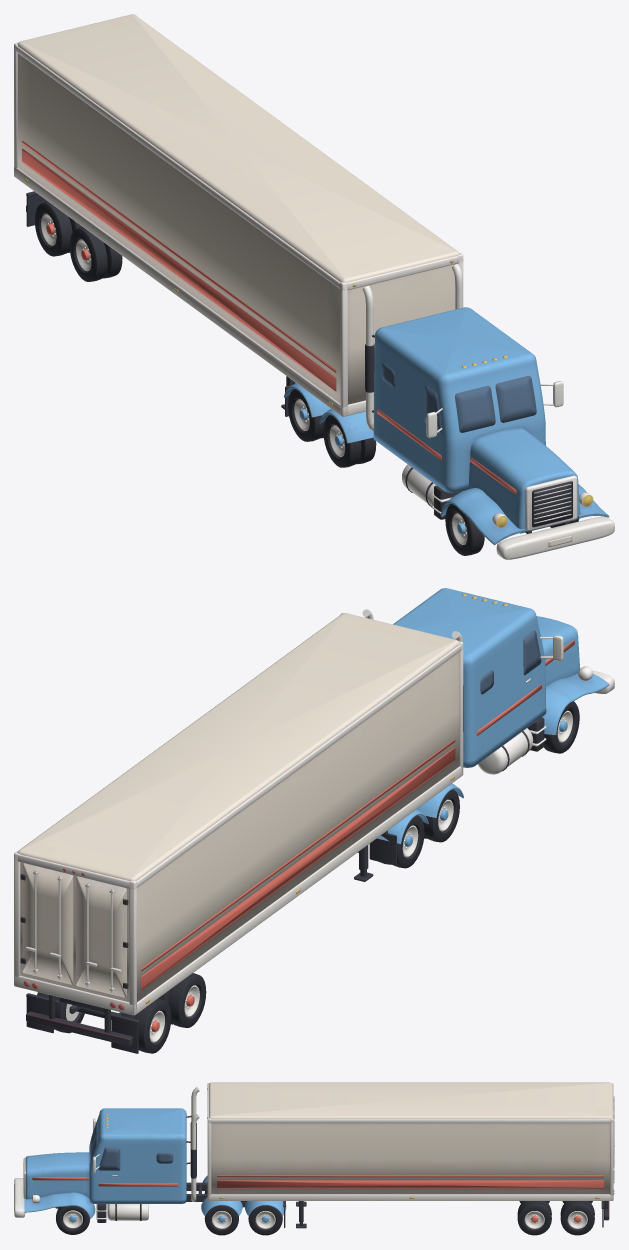
Rendered from semi-truck.glb.
3 renders of one model, top to bottom at view 1: azimuth 30°, elevation 25°; view 2: azimuth 150°, elevation 25°; view 3: azimuth 270°, elevation 25°, orthographic. The views are drawn at different scales.
Visible parts, largest first — view 1: semi-truck_trailer, semi-truck_body, semi-truck_windows, semi-truck_wheel_t1r, semi-truck_wheel_t2r, semi-truck_wheel_d1r, semi-truck_wheel_fr, semi-truck_wheel_d2r; view 2: semi-truck_trailer, semi-truck_body, semi-truck_wheel_t1r, semi-truck_wheel_t2r, semi-truck_wheel_d1r, semi-truck_wheel_fr, semi-truck_wheel_d2r, semi-truck_windows; view 3: semi-truck_trailer, semi-truck_body, semi-truck_wheel_t1l, semi-truck_wheel_t2l, semi-truck_windows, semi-truck_wheel_d1l, semi-truck_wheel_d2l, semi-truck_wheel_fl.
Boxes of the visible parts, left/top/right/bottom form: semi-truck_trailer: left=14, top=14, right=463, bottom=416; semi-truck_body: left=284, top=264, right=614, bottom=559; semi-truck_windows: left=381, top=363, right=536, bottom=434; semi-truck_wheel_t1r: left=69, top=227, right=122, bottom=281; semi-truck_wheel_t2r: left=35, top=201, right=82, bottom=256; semi-truck_wheel_d1r: left=323, top=415, right=376, bottom=467; semi-truck_wheel_fr: left=445, top=503, right=484, bottom=555; semi-truck_wheel_d2r: left=288, top=389, right=324, bottom=441; semi-truck_trailer: left=14, top=613, right=463, bottom=1053; semi-truck_body: left=362, top=588, right=614, bottom=865; semi-truck_wheel_t1r: left=158, top=973, right=206, bottom=1027; semi-truck_wheel_t2r: left=121, top=998, right=171, bottom=1053; semi-truck_wheel_d1r: left=423, top=789, right=459, bottom=842; semi-truck_wheel_fr: left=544, top=701, right=579, bottom=753; semi-truck_wheel_d2r: left=380, top=815, right=424, bottom=868; semi-truck_windows: left=480, top=630, right=541, bottom=694; semi-truck_trailer: left=207, top=1082, right=614, bottom=1228; semi-truck_body: left=14, top=1087, right=286, bottom=1227; semi-truck_wheel_t1l: left=517, top=1201, right=551, bottom=1235; semi-truck_wheel_t2l: left=560, top=1201, right=594, bottom=1235; semi-truck_windows: left=90, top=1121, right=173, bottom=1170; semi-truck_wheel_d1l: left=204, top=1205, right=238, bottom=1235; semi-truck_wheel_d2l: left=248, top=1205, right=282, bottom=1235; semi-truck_wheel_fl: left=56, top=1206, right=89, bottom=1234.
Bounding box in the file's own units: 2.92 × 4 × 18.16.
Materials: 7 (2 with a texture image).
